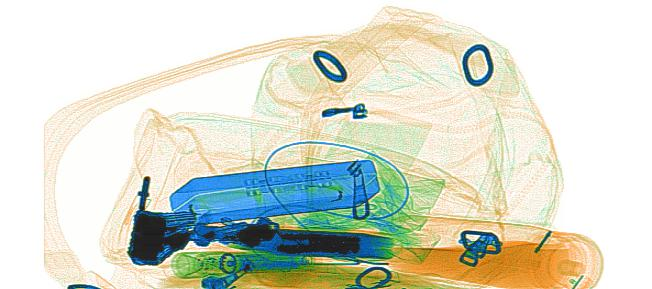battery: (224, 247, 308, 275)
